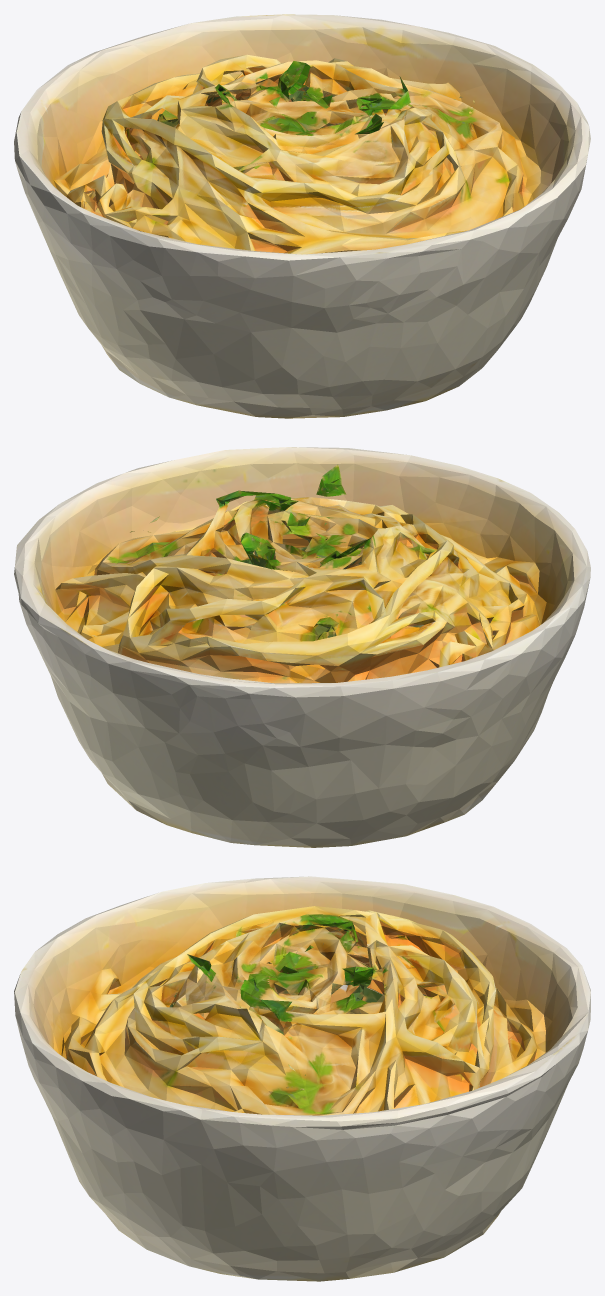
File: mi rebus.fbx
The picture shows the model from 3 angles, top to bottom: view 1: azimuth 30°, elevation 25°; view 2: azimuth 150°, elevation 25°; view 3: azimuth 270°, elevation 25°; orthographic projection.
Parts seen in each view (by area): view 1: temp; view 2: temp; view 3: temp.
Boxes of the visible parts, x1=… form: temp: x1=14, y1=14, x2=590, y2=418; temp: x1=14, y1=447, x2=590, y2=847; temp: x1=14, y1=876, x2=590, y2=1281.
Size of the model in its own units: 52.97 by 25.98 by 52.91.
1 material, 1 textured.
